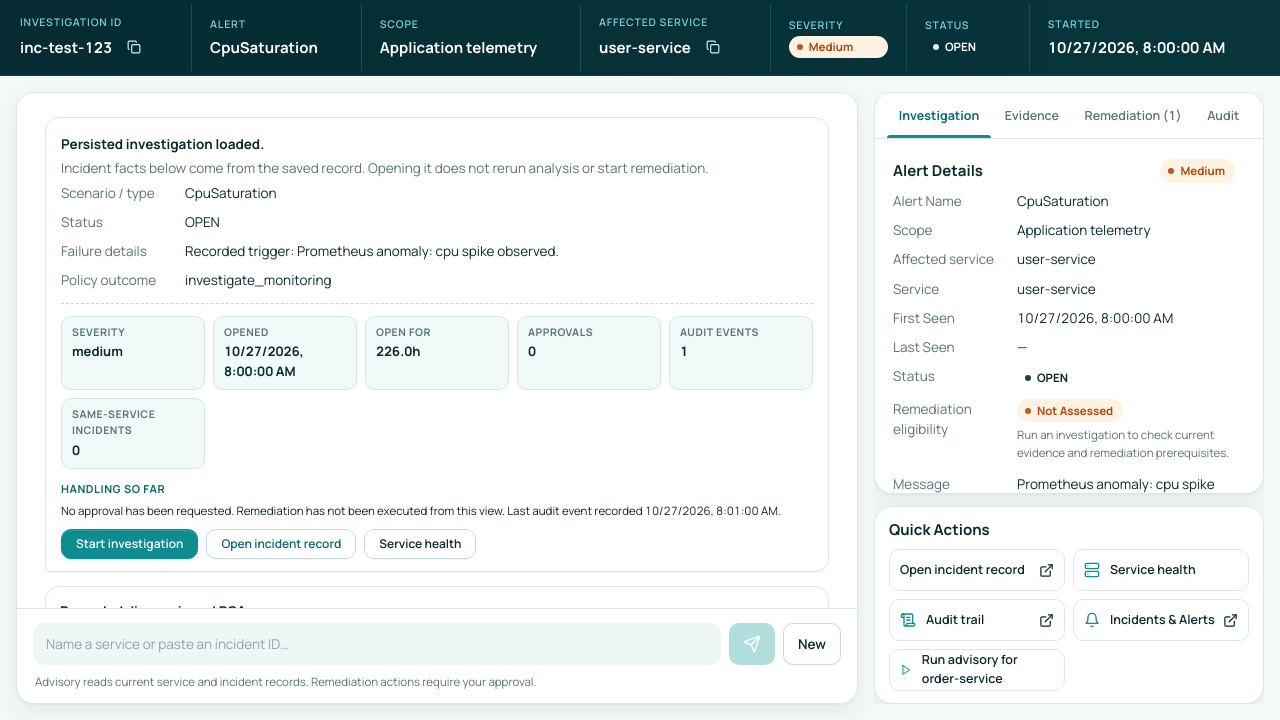
Console incident investigation › loads persisted history and opens the selected incident in Console
This screenshot has width=1280, height=720.
Expected: the text "CpuSaturation" is shown, left=210, top=36, right=318, bottom=58
Expected: the text "investigate_monitoring" is shown, left=185, top=271, right=331, bottom=289
Click the tab "Audit". click: x=1223, y=116
box: left=1195, top=93, right=1251, bottom=138
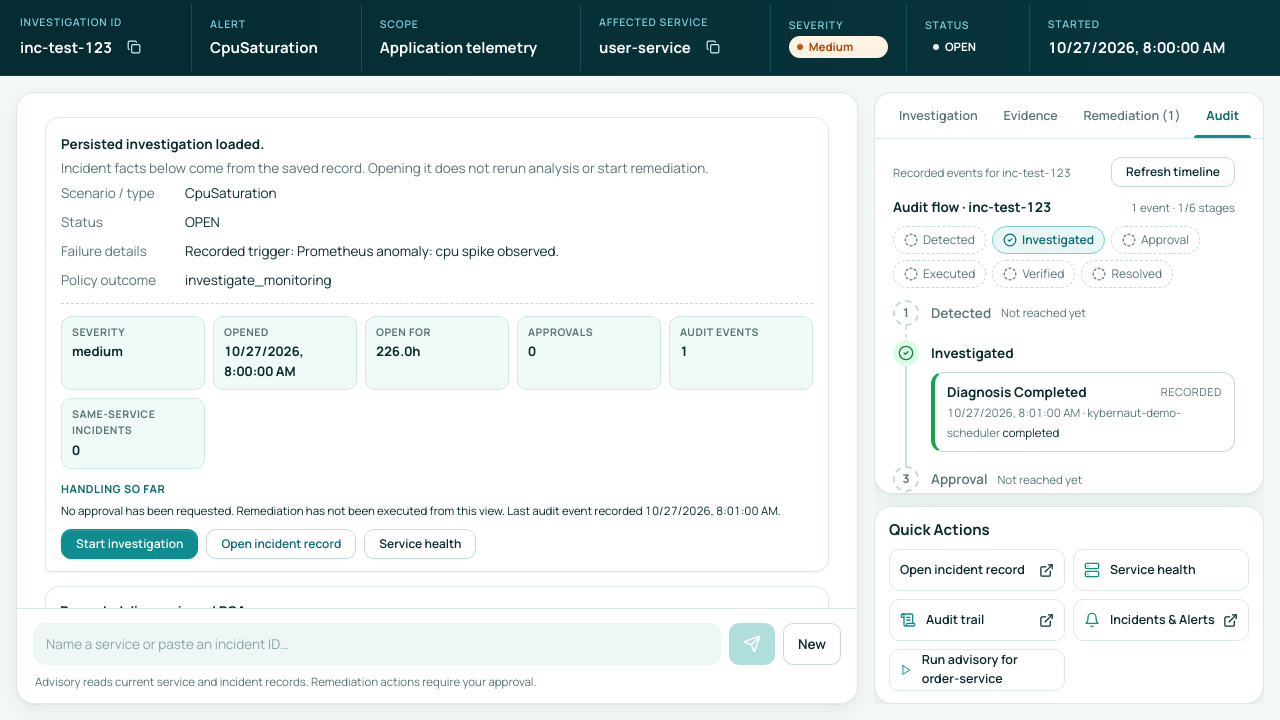
Expected: the text "diagnosis completed" is shown, left=947, top=382, right=1087, bottom=402
